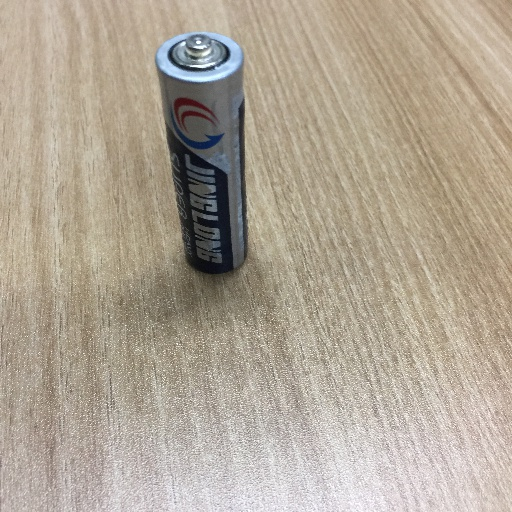Battery_0: (152, 25, 269, 287)
